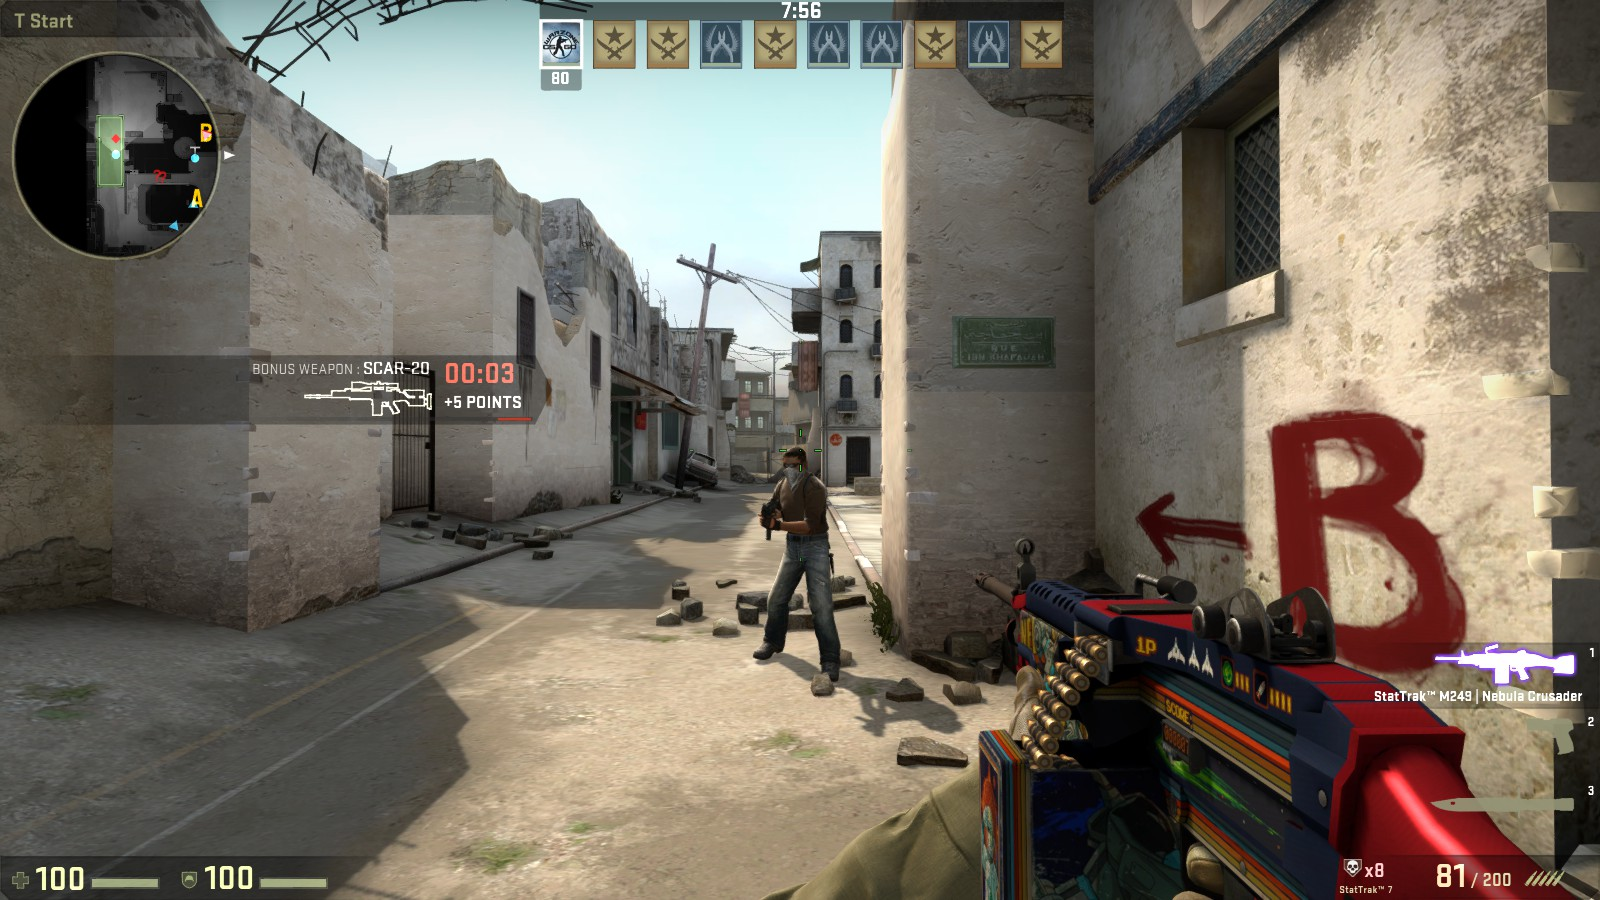t: (749, 444, 846, 681)
th: (779, 446, 811, 489)
